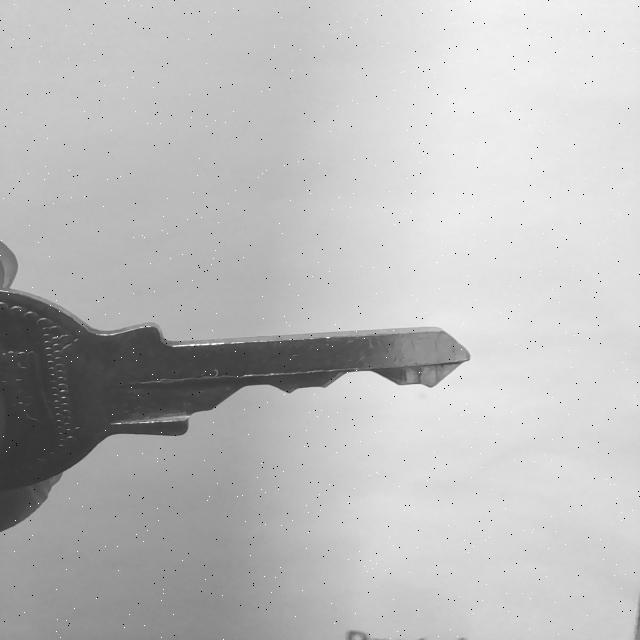key: (0, 290, 469, 491)
